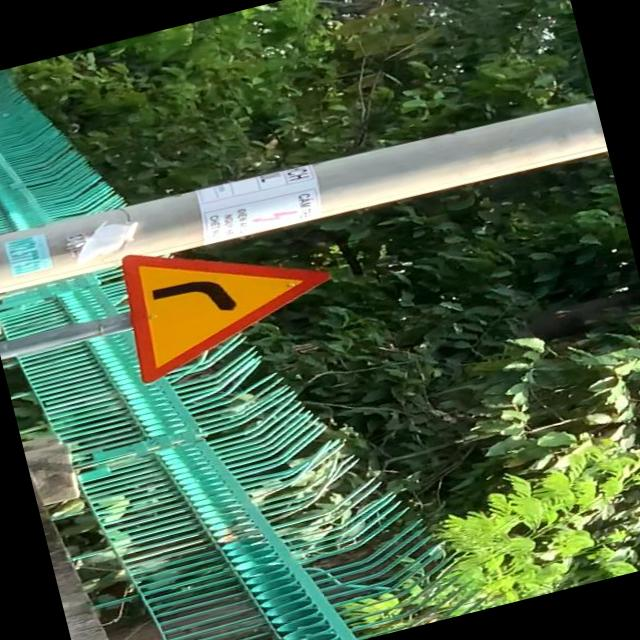W-201b: (110, 208, 348, 386)
